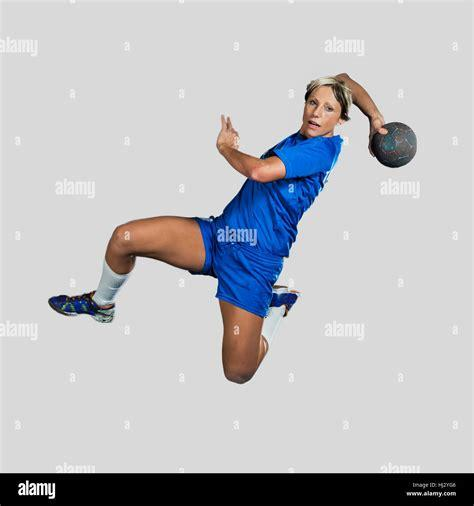ballon_handball: (370, 119, 420, 169)
